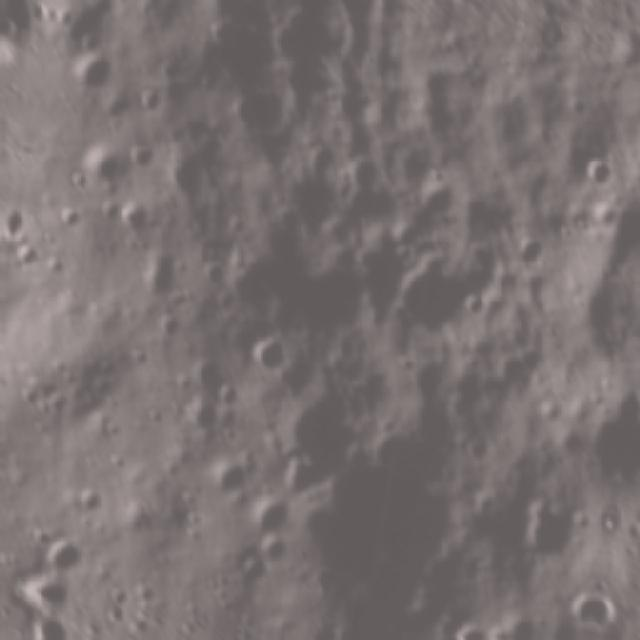crater: (381, 222, 516, 356), (501, 490, 587, 585), (221, 76, 299, 152), (197, 446, 269, 517), (154, 140, 211, 212), (236, 490, 295, 556), (130, 245, 190, 309), (34, 527, 92, 587), (9, 563, 93, 603), (58, 51, 119, 106), (240, 332, 294, 393), (505, 227, 558, 285), (570, 147, 622, 205), (174, 392, 231, 442), (138, 313, 188, 359), (131, 80, 175, 125), (299, 138, 341, 179), (46, 199, 89, 238), (562, 591, 596, 640), (8, 204, 29, 253), (445, 621, 497, 640), (64, 168, 94, 200), (598, 494, 614, 549), (546, 629, 588, 640), (635, 71, 640, 132)
